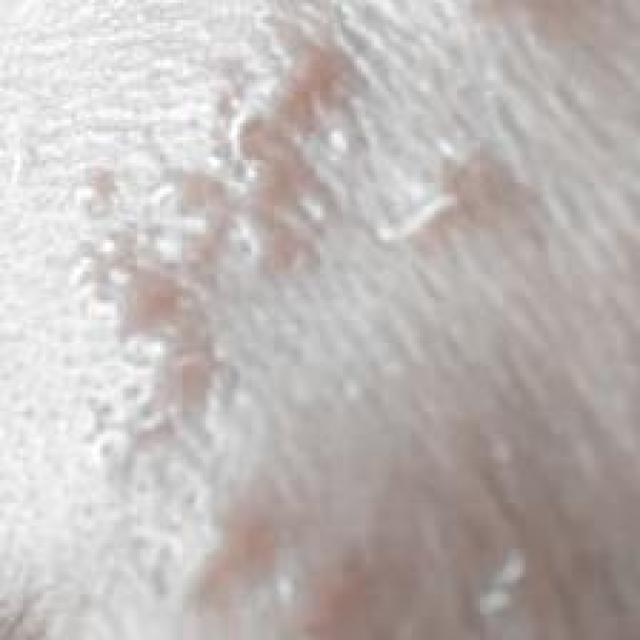monkeypox: (57, 0, 551, 628)
